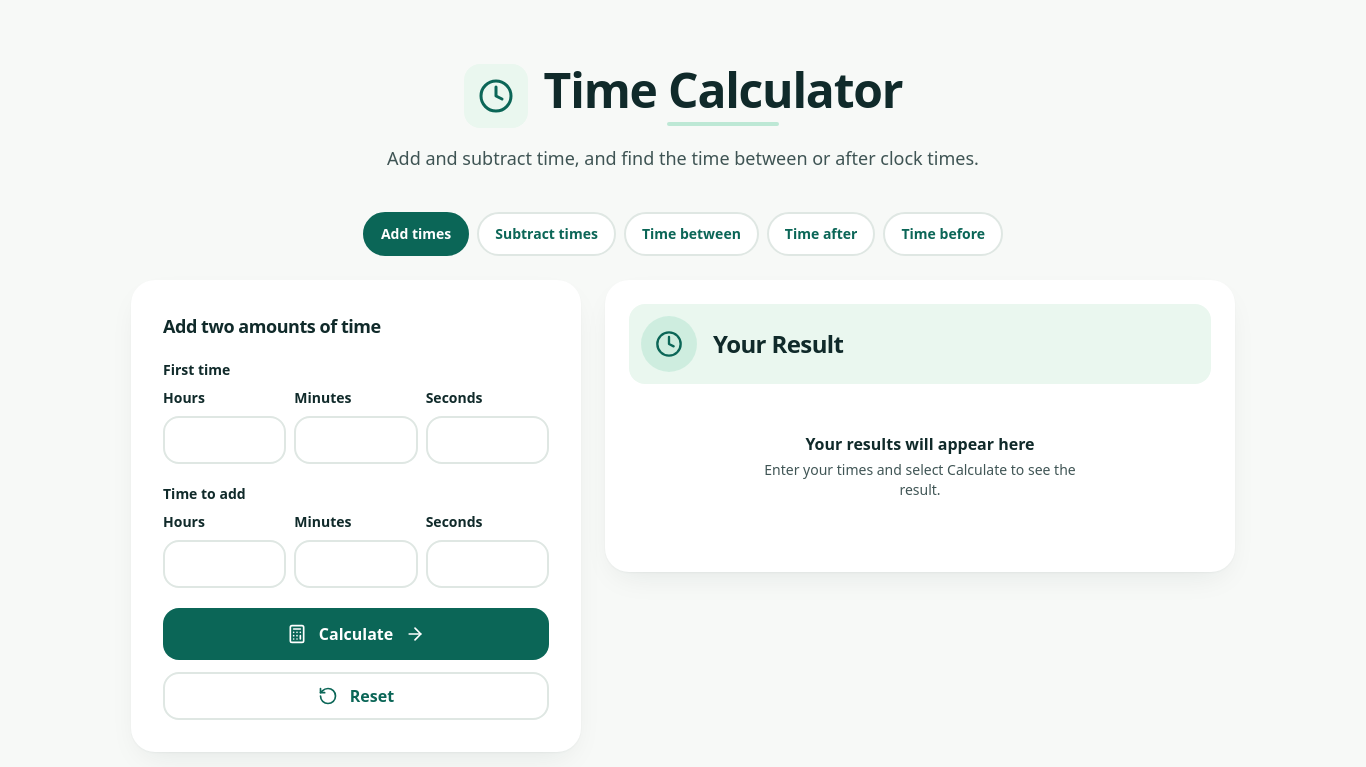
Test case: Time Calculator › clears results when the mode changes, and resets
Type "1" into the field named "First time Hours" at [225, 440], box [163, 416, 286, 464]
Type "45" into the field named "First time Minutes" at [356, 440], box [294, 416, 418, 464]
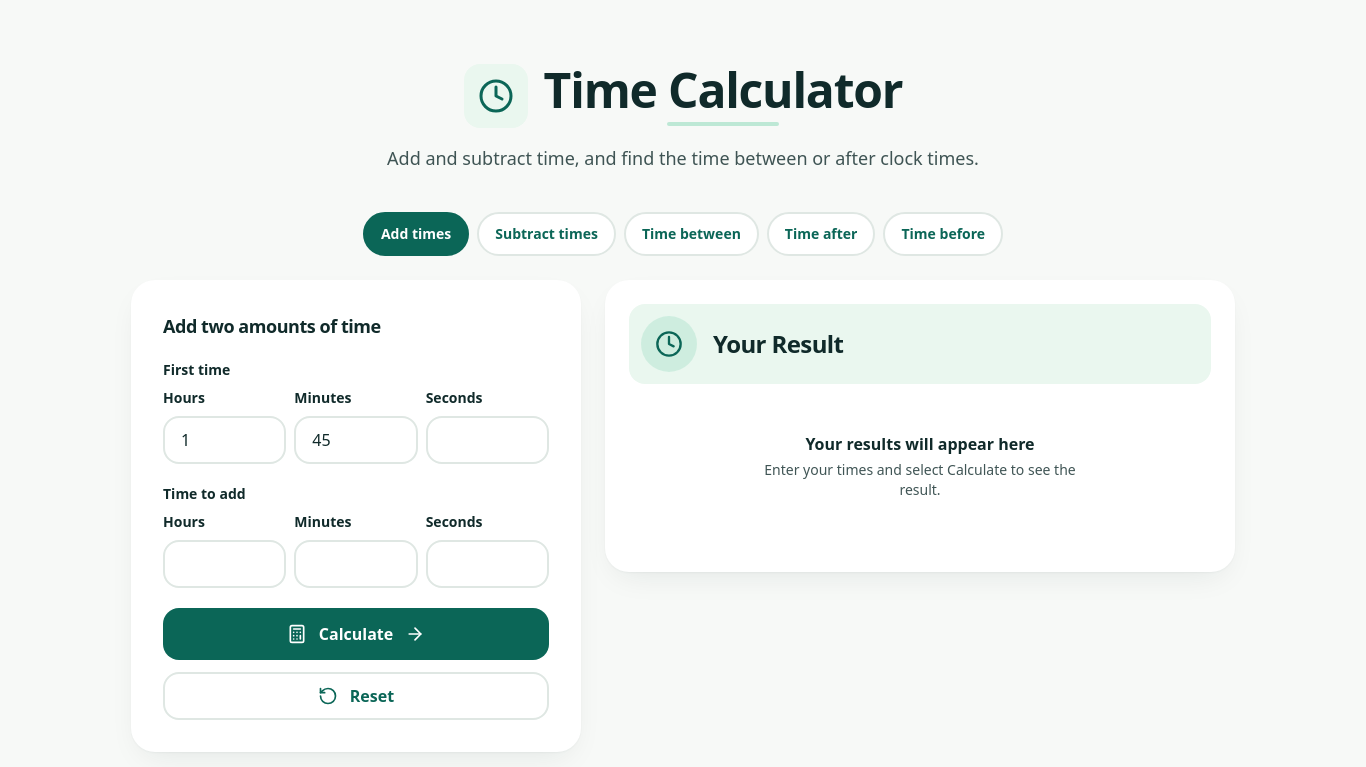
Type "30" into the field named "Time to add Minutes" at [356, 564], box [294, 540, 418, 588]
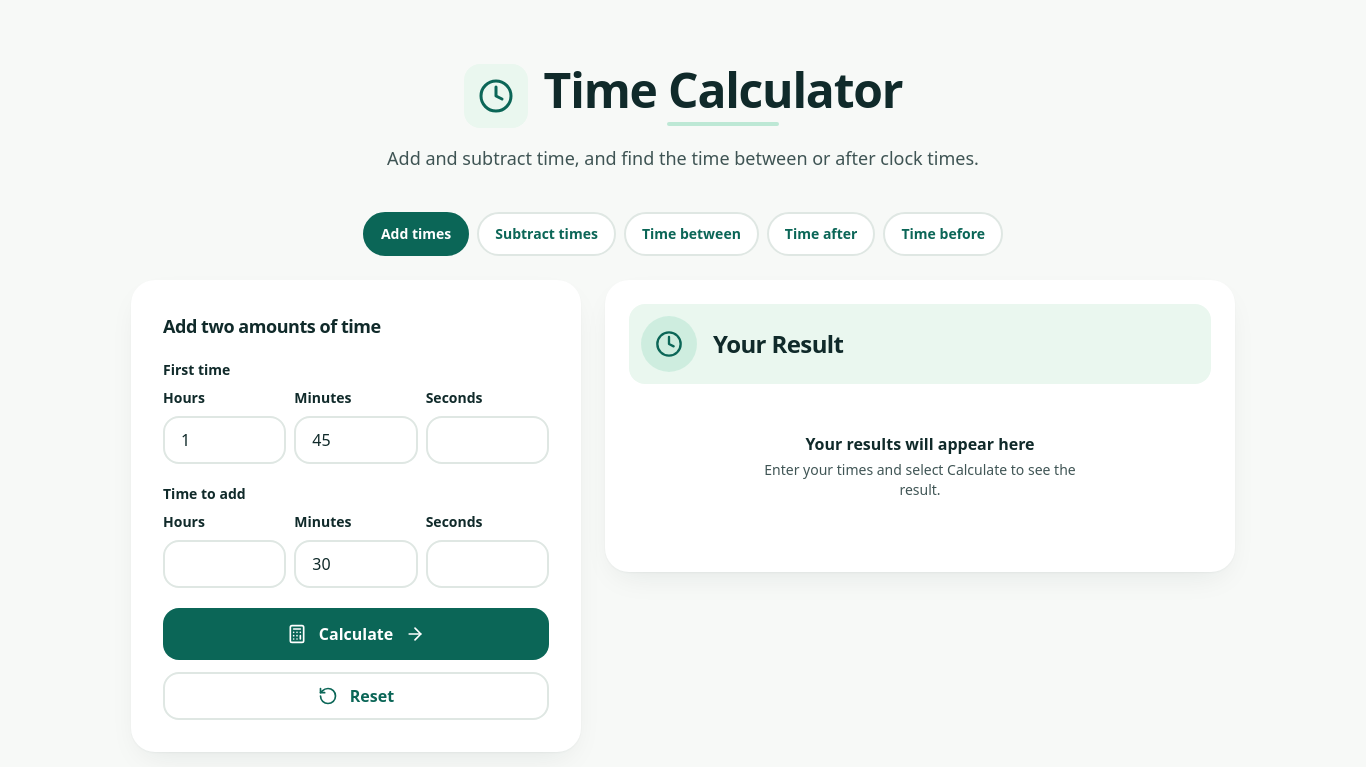
Click the button "Calculate" at [356, 634], box [163, 608, 549, 660]
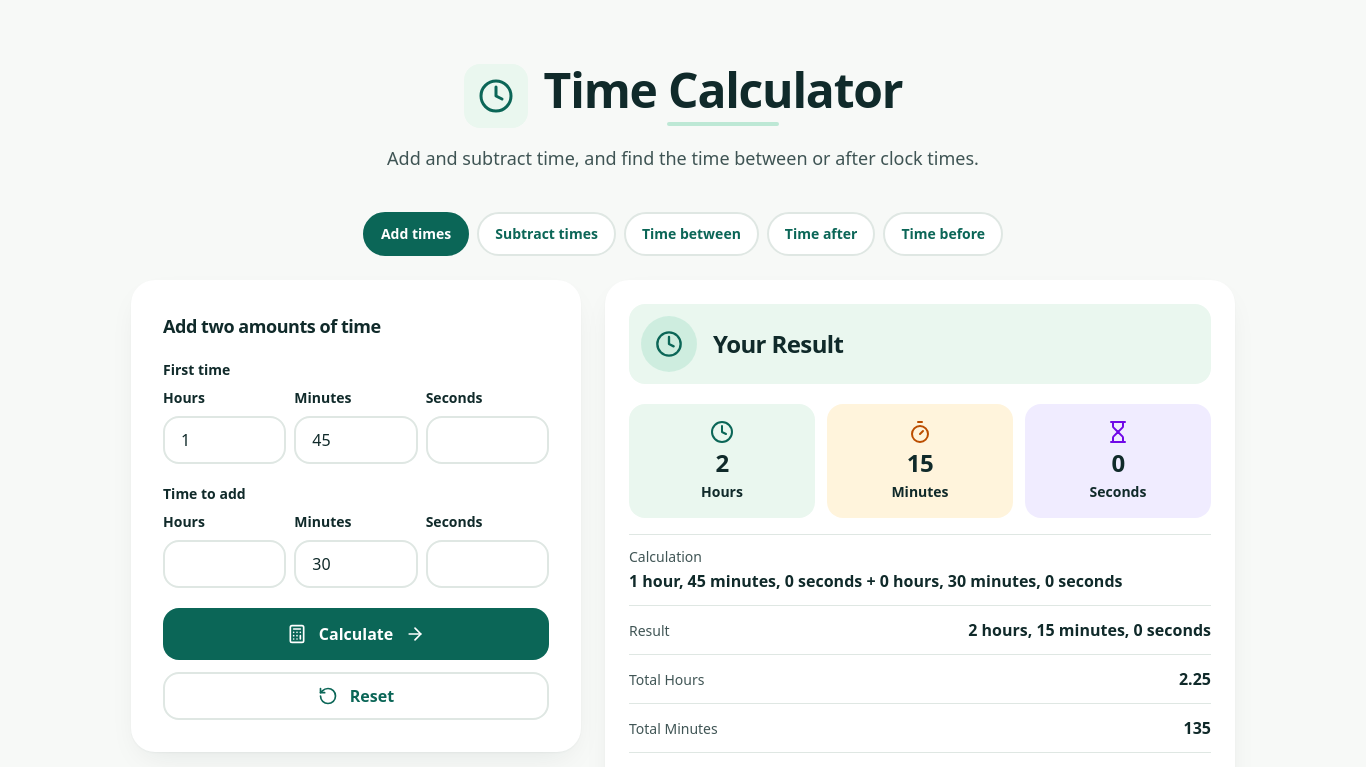
Click the button "Subtract times" at [547, 234], box [477, 212, 616, 256]
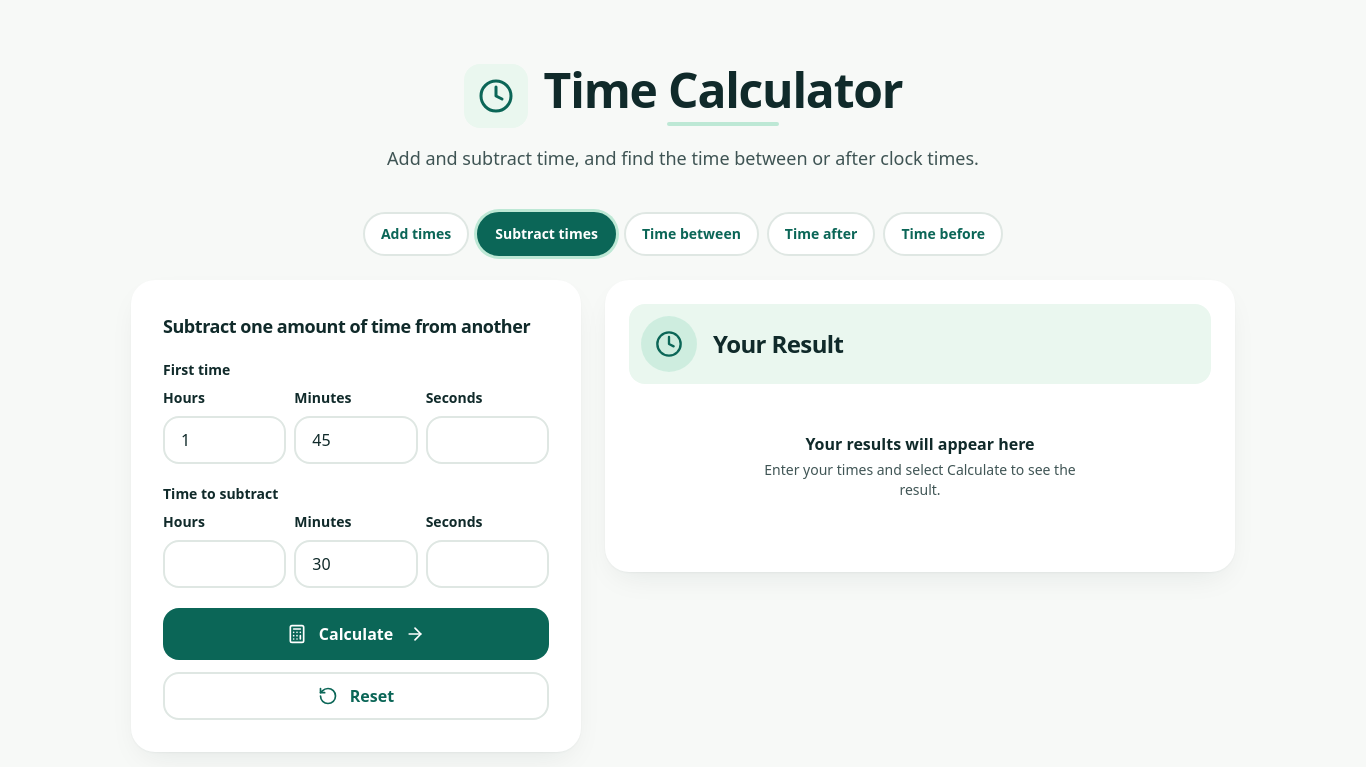
Now the text "Your results will appear here" is shown, box [805, 433, 1035, 455]
Click the button "Calculate" at [356, 634], box [163, 608, 549, 660]
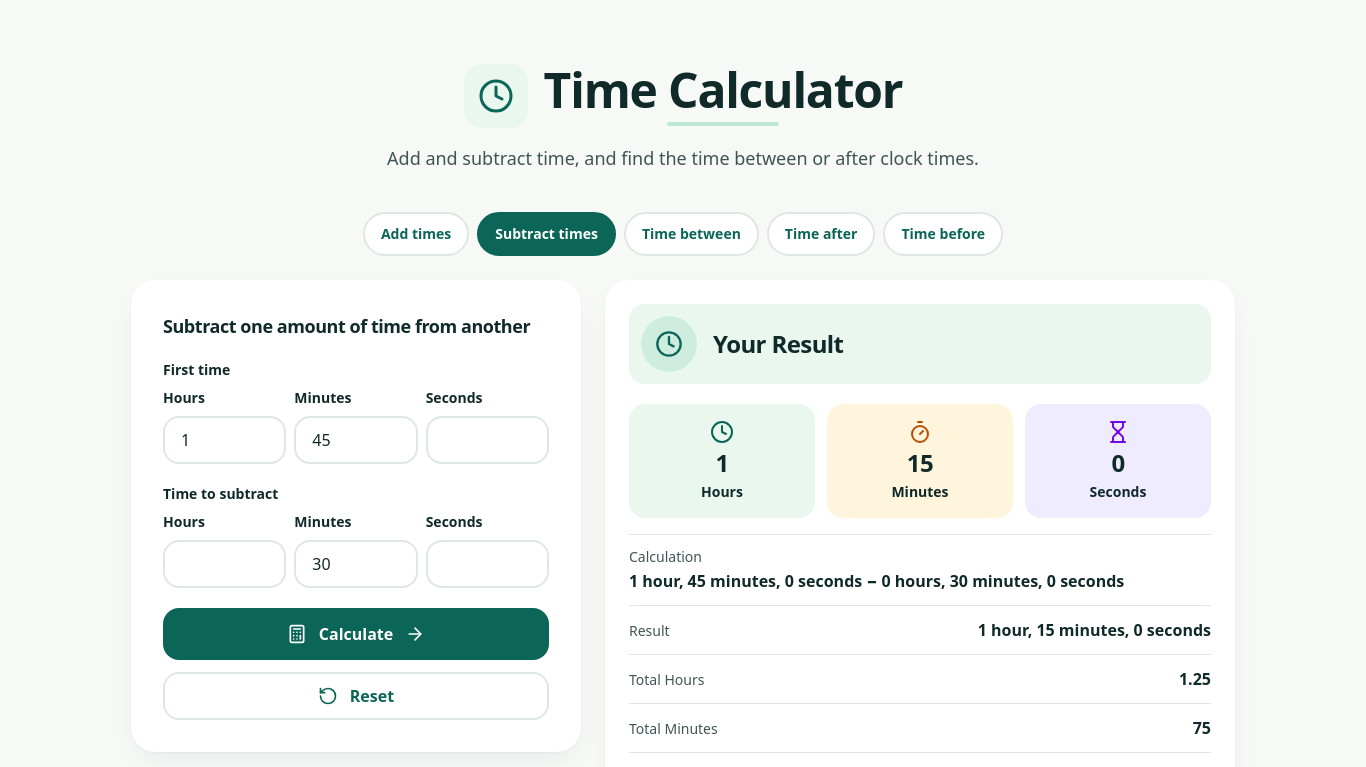
Click the button "Reset" at [356, 696], box [163, 672, 549, 720]
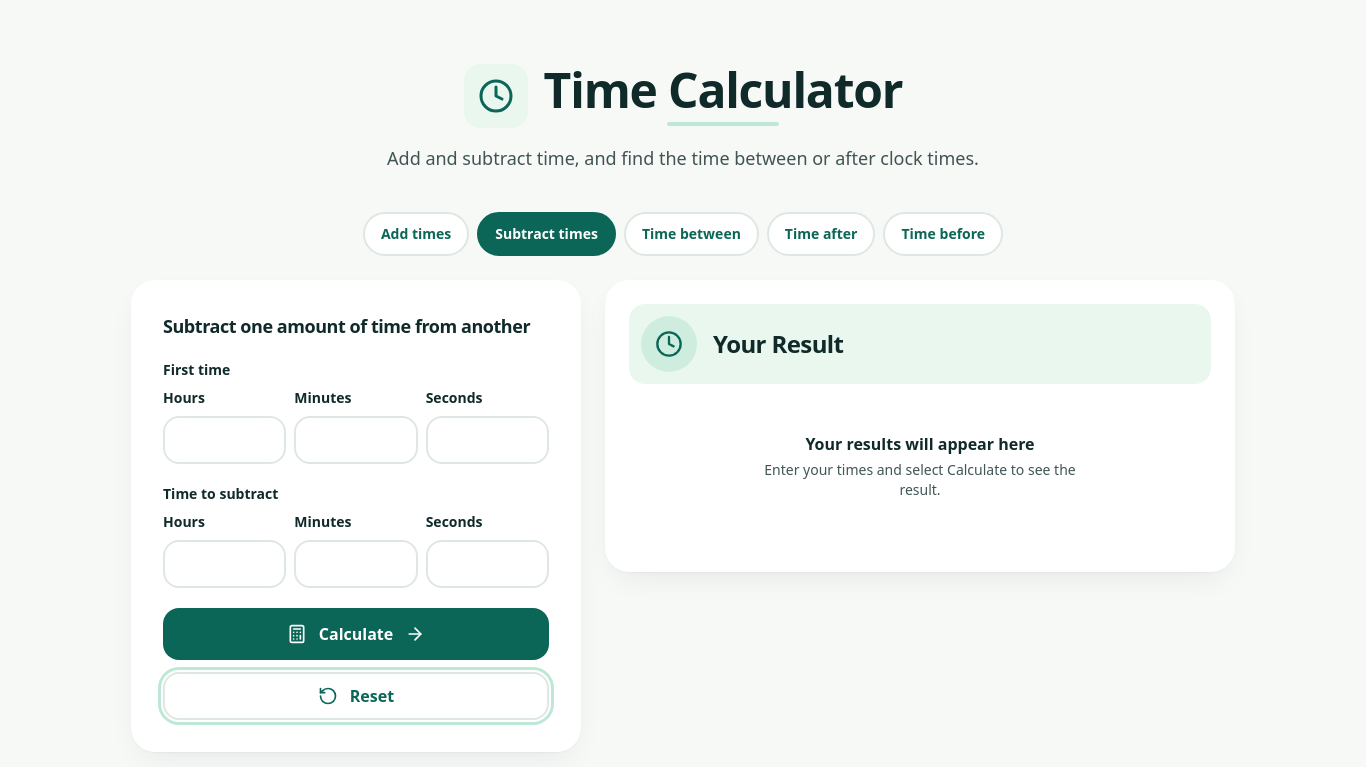
Now the field named "First time Hours" is empty, box [163, 416, 286, 464]
Now the text "Your results will appear here" is shown, box [805, 433, 1035, 455]
